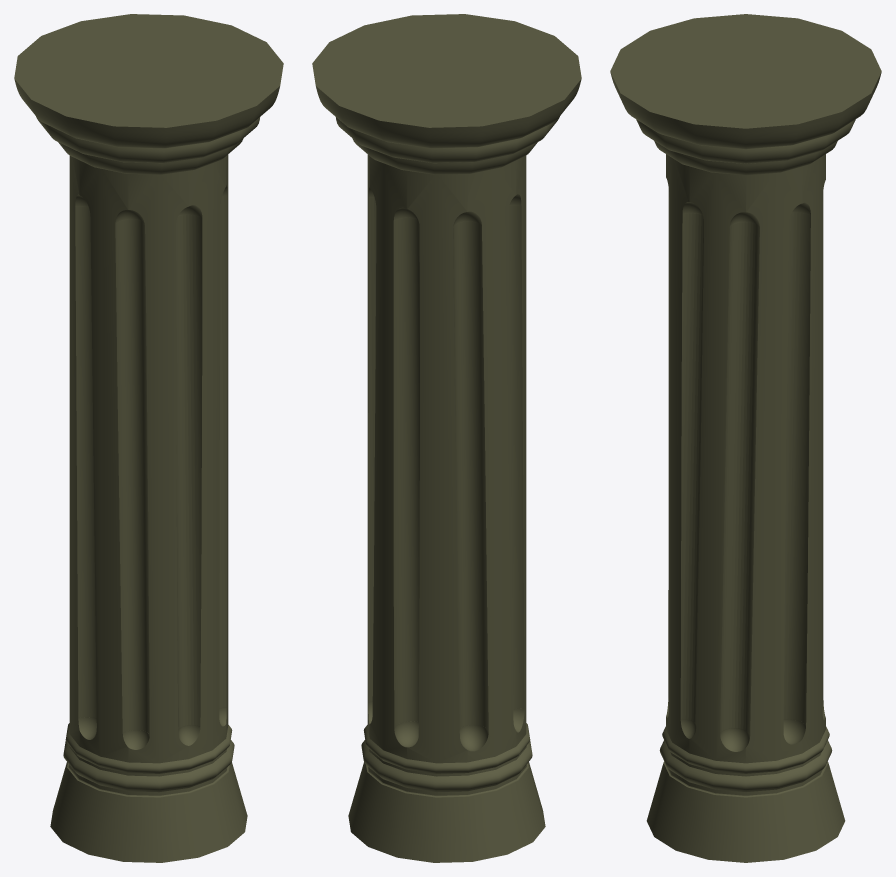
The model's file is Column.FBX.
3 views of the same model, side by side, from view 1: azimuth 30°, elevation 25°; view 2: azimuth 150°, elevation 25°; view 3: azimuth 270°, elevation 25° (orthographic).
Parts seen in each view (by area): view 1: Line006; view 2: Line006; view 3: Line006.
Boxes of the visible parts, bbox=[...] form: Line006: bbox=[14, 14, 283, 862]; Line006: bbox=[312, 14, 581, 862]; Line006: bbox=[610, 14, 881, 862].
Bounding box in the file's own units: 8.75 × 26.64 × 8.75.
